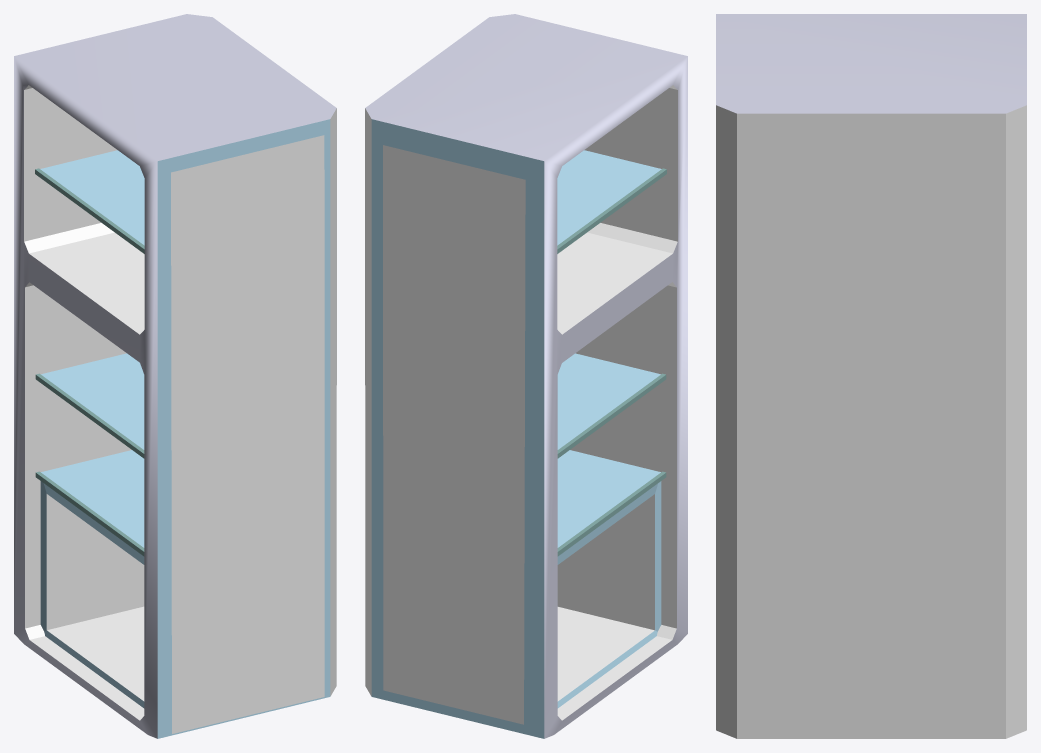
File: Refrigerator_Body.fbx
The picture shows the model from 3 angles, left to right: view 1: azimuth 30°, elevation 25°; view 2: azimuth 150°, elevation 25°; view 3: azimuth 270°, elevation 25°; orthographic projection. The views are drawn at different scales.
Visible parts, largest first — view 1: Refridgerator_Body; view 2: Refridgerator_Body; view 3: Refridgerator_Body.
Boxes of the visible parts, x1,y1,x2,y2 form: Refridgerator_Body: [14, 14, 336, 738]; Refridgerator_Body: [365, 14, 687, 738]; Refridgerator_Body: [716, 14, 1026, 738].
Bounding box in the file's own units: 77.11 × 225 × 101.
